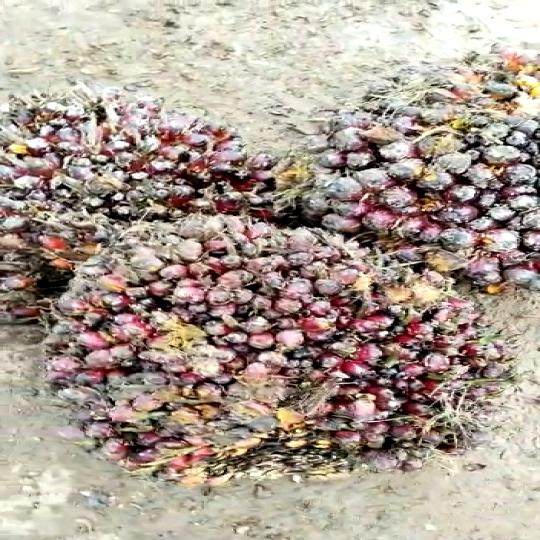kurang masak: (33, 209, 535, 495), (0, 80, 297, 323), (295, 51, 540, 298)
